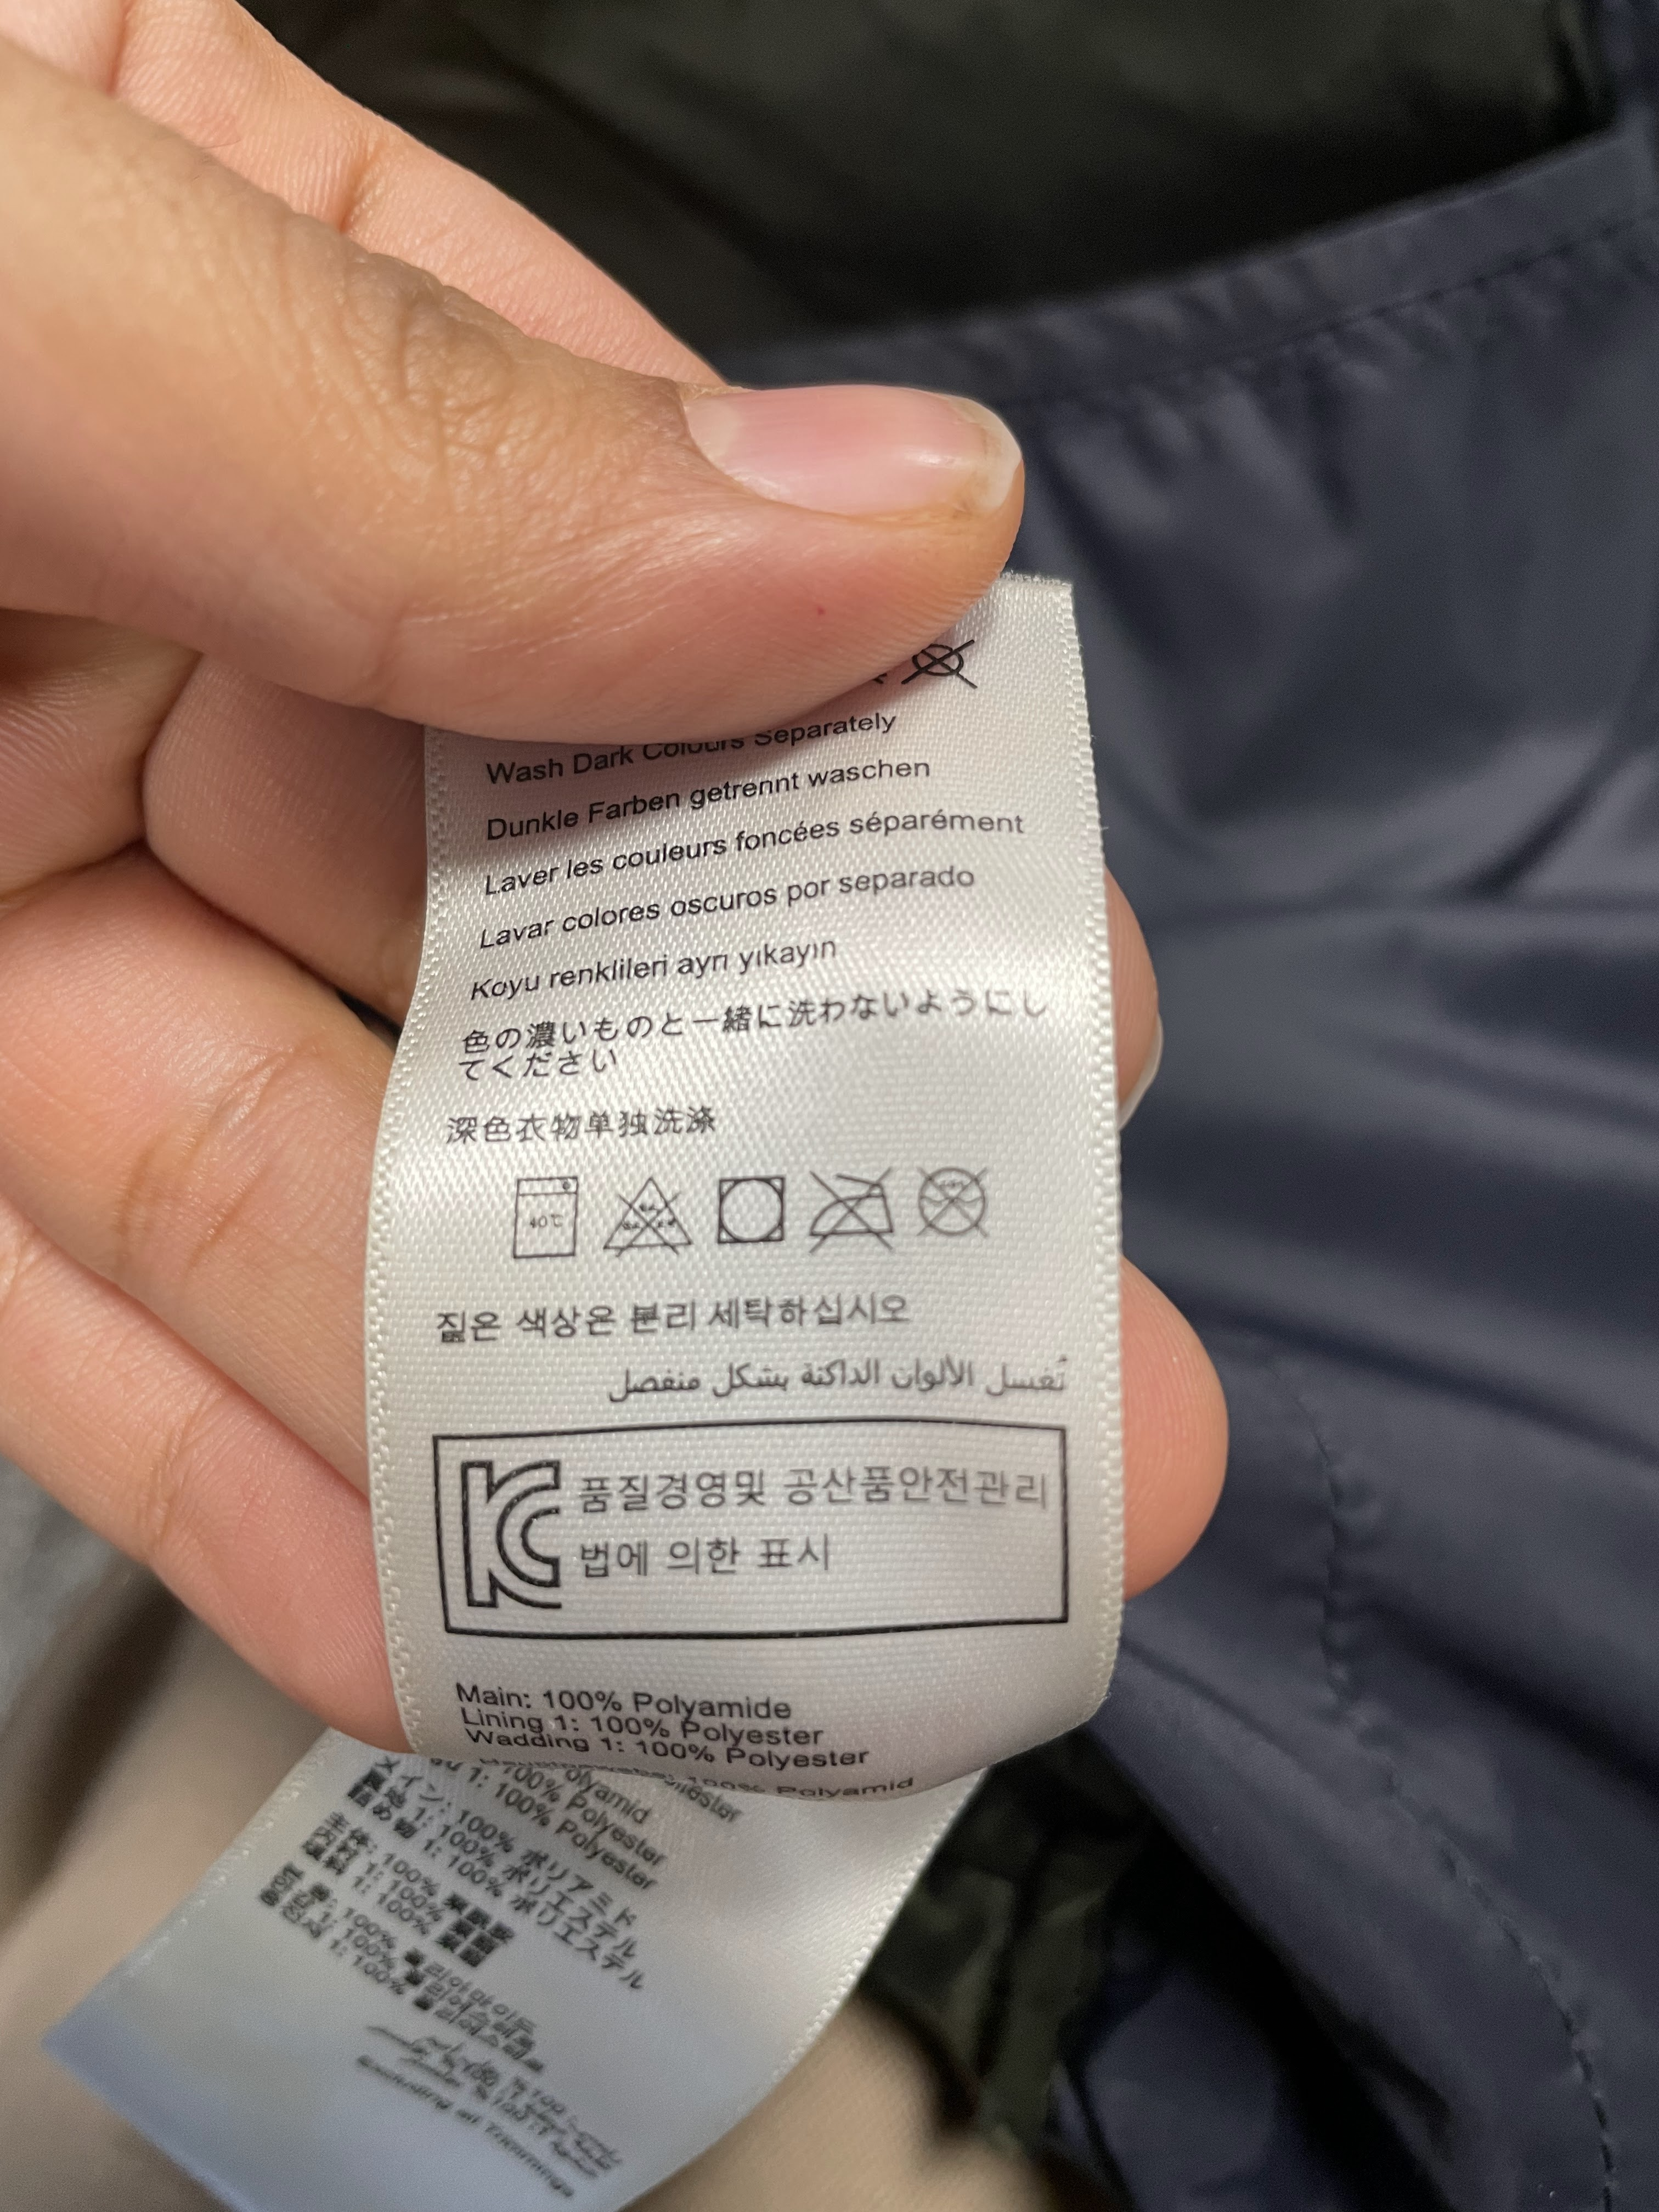do not bleach: (594, 1144, 716, 1273)
do not dry clean: (901, 1162, 1040, 1282)
do not iron: (803, 1153, 913, 1263)
tumble dry: (706, 1146, 805, 1280)
wash at or below 40: (472, 1155, 603, 1275)
